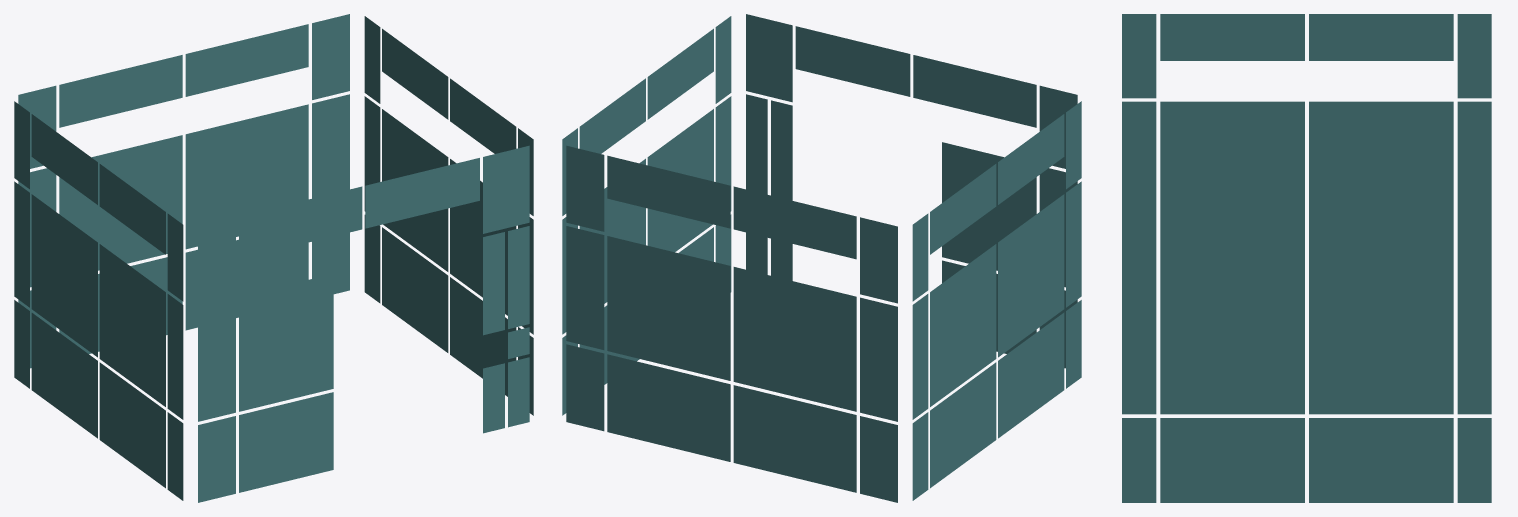
Rendered from SW_ENV_Elevator_Shaft_StreetLevel_Glass.fbx.
The picture shows the model from 3 angles, left to right: view 1: azimuth 30°, elevation 25°; view 2: azimuth 150°, elevation 25°; view 3: azimuth 270°, elevation 25°; orthographic projection. The views are drawn at different scales.
Visible parts, largest first — view 1: SW_ENV_Elevator_Shaft_StreetLevel_Glass; view 2: SW_ENV_Elevator_Shaft_StreetLevel_Glass; view 3: SW_ENV_Elevator_Shaft_StreetLevel_Glass.
Boxes of the visible parts, box(x1,y1,x2,y2) form: SW_ENV_Elevator_Shaft_StreetLevel_Glass: box(14, 14, 533, 502); SW_ENV_Elevator_Shaft_StreetLevel_Glass: box(562, 14, 1081, 502); SW_ENV_Elevator_Shaft_StreetLevel_Glass: box(1122, 14, 1491, 502).
Size of the model in its own units: 452 by 341 by 402.
